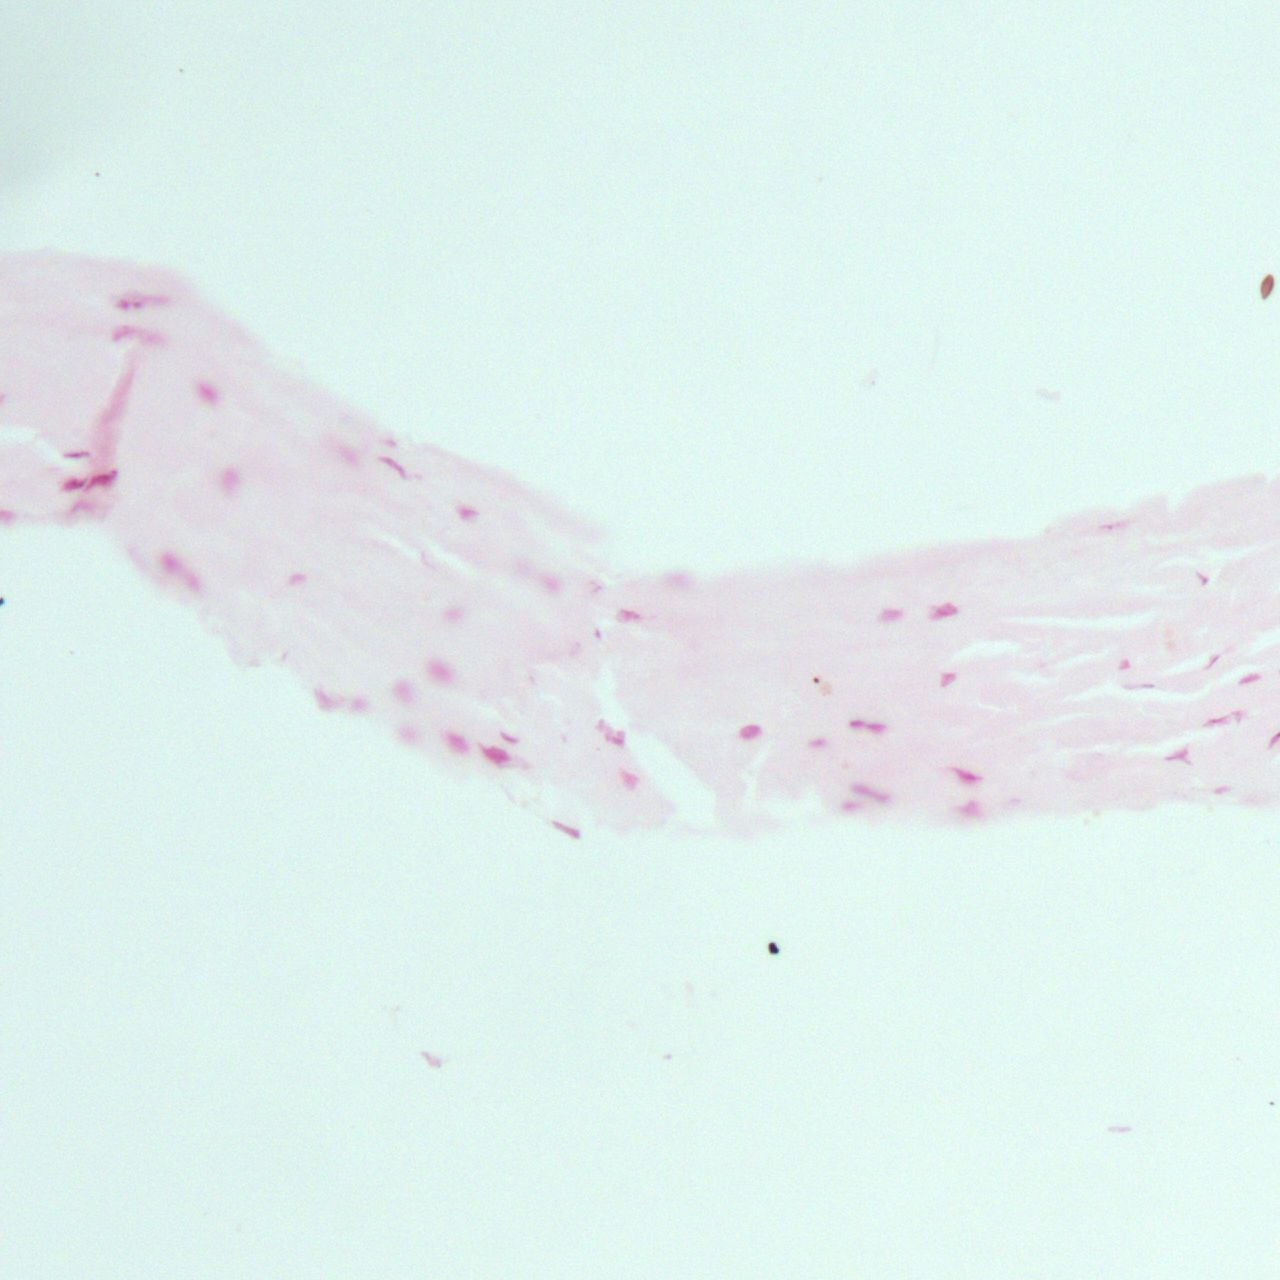dust: (1260, 271, 1273, 299), (768, 941, 779, 954), (0, 595, 6, 608), (813, 676, 819, 683)
nucleus-AC: (478, 740, 512, 770), (852, 779, 888, 804), (83, 468, 120, 492), (377, 452, 407, 479), (551, 817, 583, 840), (443, 729, 471, 755), (195, 381, 220, 408), (222, 467, 243, 499), (537, 570, 563, 595), (931, 600, 959, 624), (314, 689, 336, 713), (427, 663, 450, 683), (496, 729, 520, 748), (954, 768, 981, 784), (111, 325, 136, 342), (1237, 670, 1261, 687), (1203, 652, 1223, 672), (162, 554, 181, 576), (738, 726, 763, 741), (877, 607, 901, 622), (67, 501, 93, 515), (1164, 749, 1189, 763), (667, 573, 689, 588), (615, 608, 639, 622), (960, 801, 979, 817), (621, 769, 638, 788), (847, 716, 867, 731), (61, 477, 84, 490), (1204, 715, 1228, 727), (0, 508, 18, 524), (1121, 682, 1155, 690), (1194, 570, 1210, 587), (349, 696, 365, 713), (290, 572, 306, 587), (183, 574, 197, 592), (458, 508, 476, 522), (60, 451, 89, 459), (396, 683, 410, 700), (1212, 784, 1230, 797), (399, 726, 414, 740), (941, 672, 955, 687), (447, 610, 462, 622), (1098, 523, 1121, 531), (869, 722, 884, 734), (115, 298, 130, 309), (811, 738, 826, 748), (844, 799, 856, 811), (1119, 658, 1130, 670), (604, 723, 611, 741), (384, 440, 397, 448), (615, 729, 626, 737), (594, 629, 602, 640), (613, 737, 622, 745)
